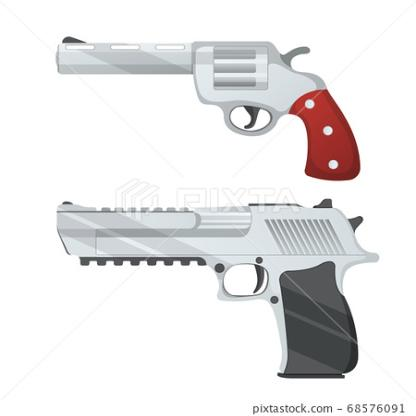handgun: (57, 199, 381, 378), (58, 30, 360, 180)
